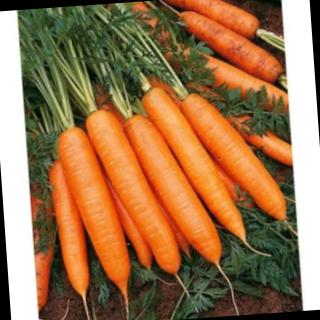Wortel: (140, 79, 252, 250), (82, 103, 183, 286), (125, 110, 224, 269), (56, 121, 135, 299)
